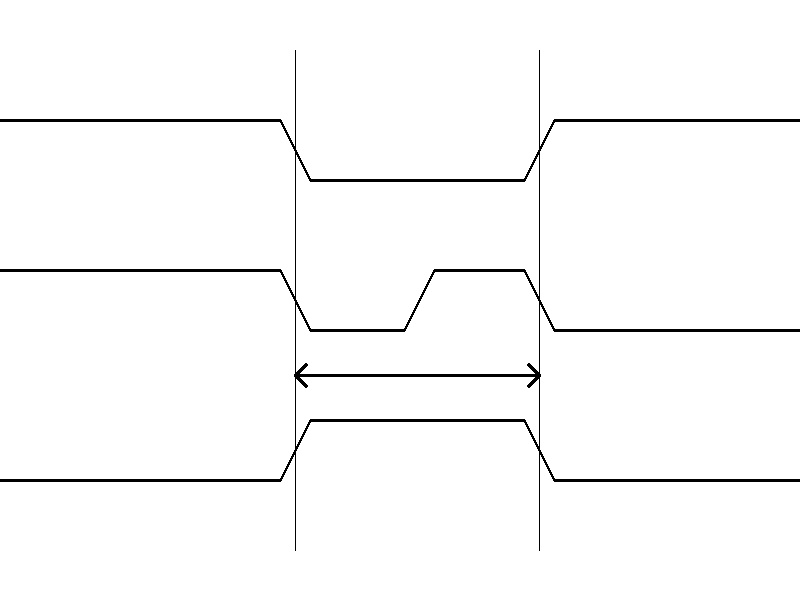double_arrow: (295, 360, 539, 390)
